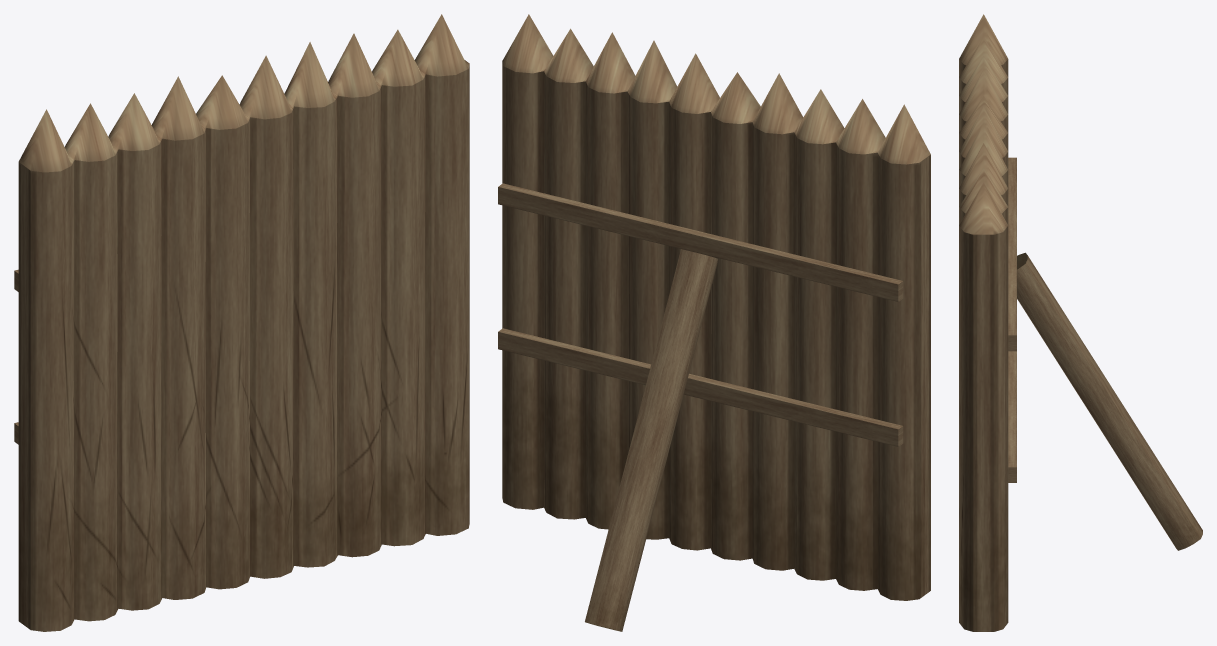
File: BgMD_Akimoto_LOD_Fence_1.fbx
3 renders of one model, left to right at view 1: azimuth 30°, elevation 25°; view 2: azimuth 150°, elevation 25°; view 3: azimuth 270°, elevation 25°, orthographic. The views are drawn at different scales.
Visible parts, largest first — view 1: BgMD_Akimoto_Fence_1_LOD_02; view 2: BgMD_Akimoto_Fence_1_LOD_02; view 3: BgMD_Akimoto_Fence_1_LOD_02.
Part boxes in pixels (x1,y1,x2,y2): BgMD_Akimoto_Fence_1_LOD_02: [14, 14, 469, 631]; BgMD_Akimoto_Fence_1_LOD_02: [498, 14, 930, 631]; BgMD_Akimoto_Fence_1_LOD_02: [959, 14, 1202, 631].
Size of the model in its own units: 500 by 569 by 278.
